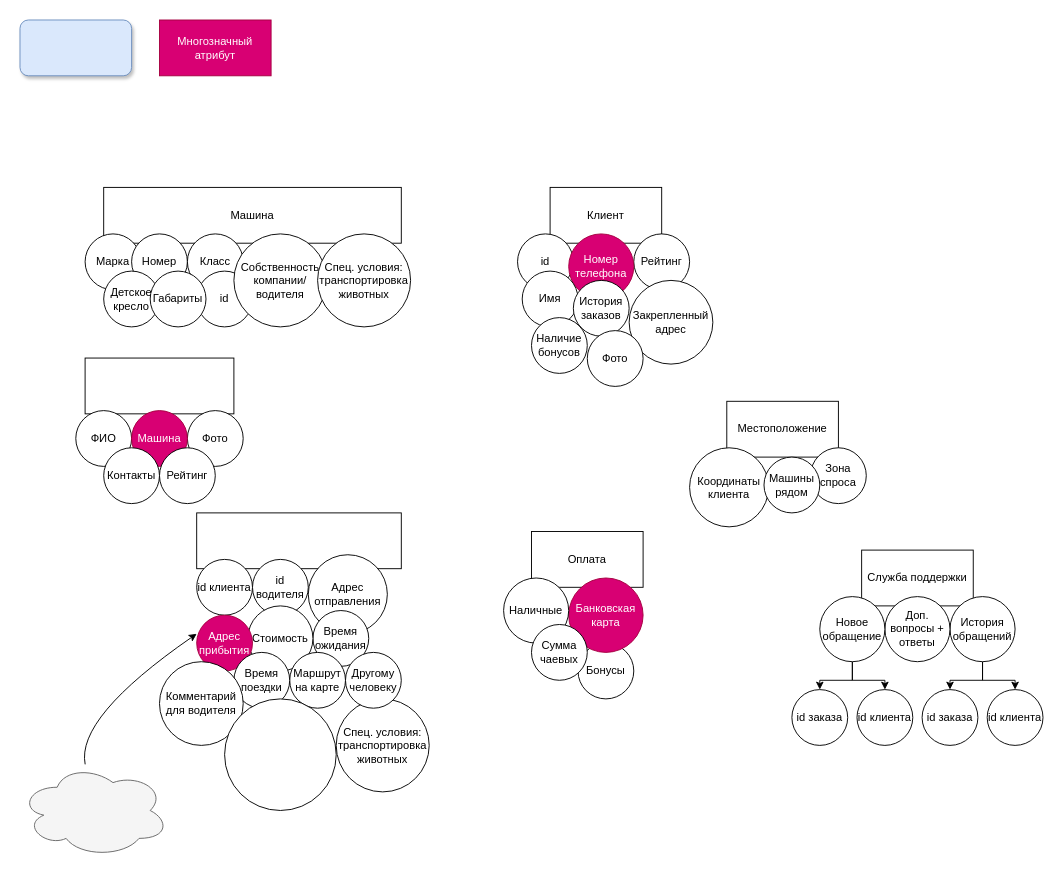
The diagram is 1059 pixels wide and 873 high, and some of its shapes have lost their labels. Each missing label, with the centre of its shape:
"Водитель" goes at (x=159, y=385).
"Заказ" goes at (x=298, y=540).
"Запланированный/срочный" goes at (x=280, y=754).
"Промежуточный или конечный?" goes at (x=94, y=810).
"Яндекс Такси" goes at (x=76, y=48).
